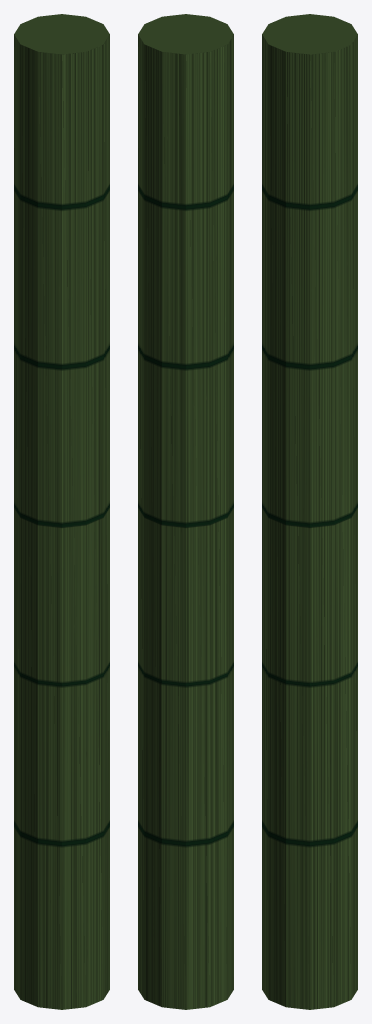
Rendered from BackGroundBamboo.gltf.
3 views of the same model, side by side, from view 1: azimuth 90°, elevation 25°; view 2: azimuth 210°, elevation 25°; view 3: azimuth 270°, elevation 25° (orthographic).
Parts seen in each view (by area): view 1: 円柱; view 2: 円柱; view 3: 円柱.
Boxes of the visible parts, x1,y1,x2,y2 form: 円柱: [14, 14, 109, 1009]; 円柱: [138, 14, 233, 1009]; 円柱: [262, 14, 357, 1009].
Bounding box in the file's own units: 2 × 22 × 2.
Materials: 1 (1 with a texture image).
